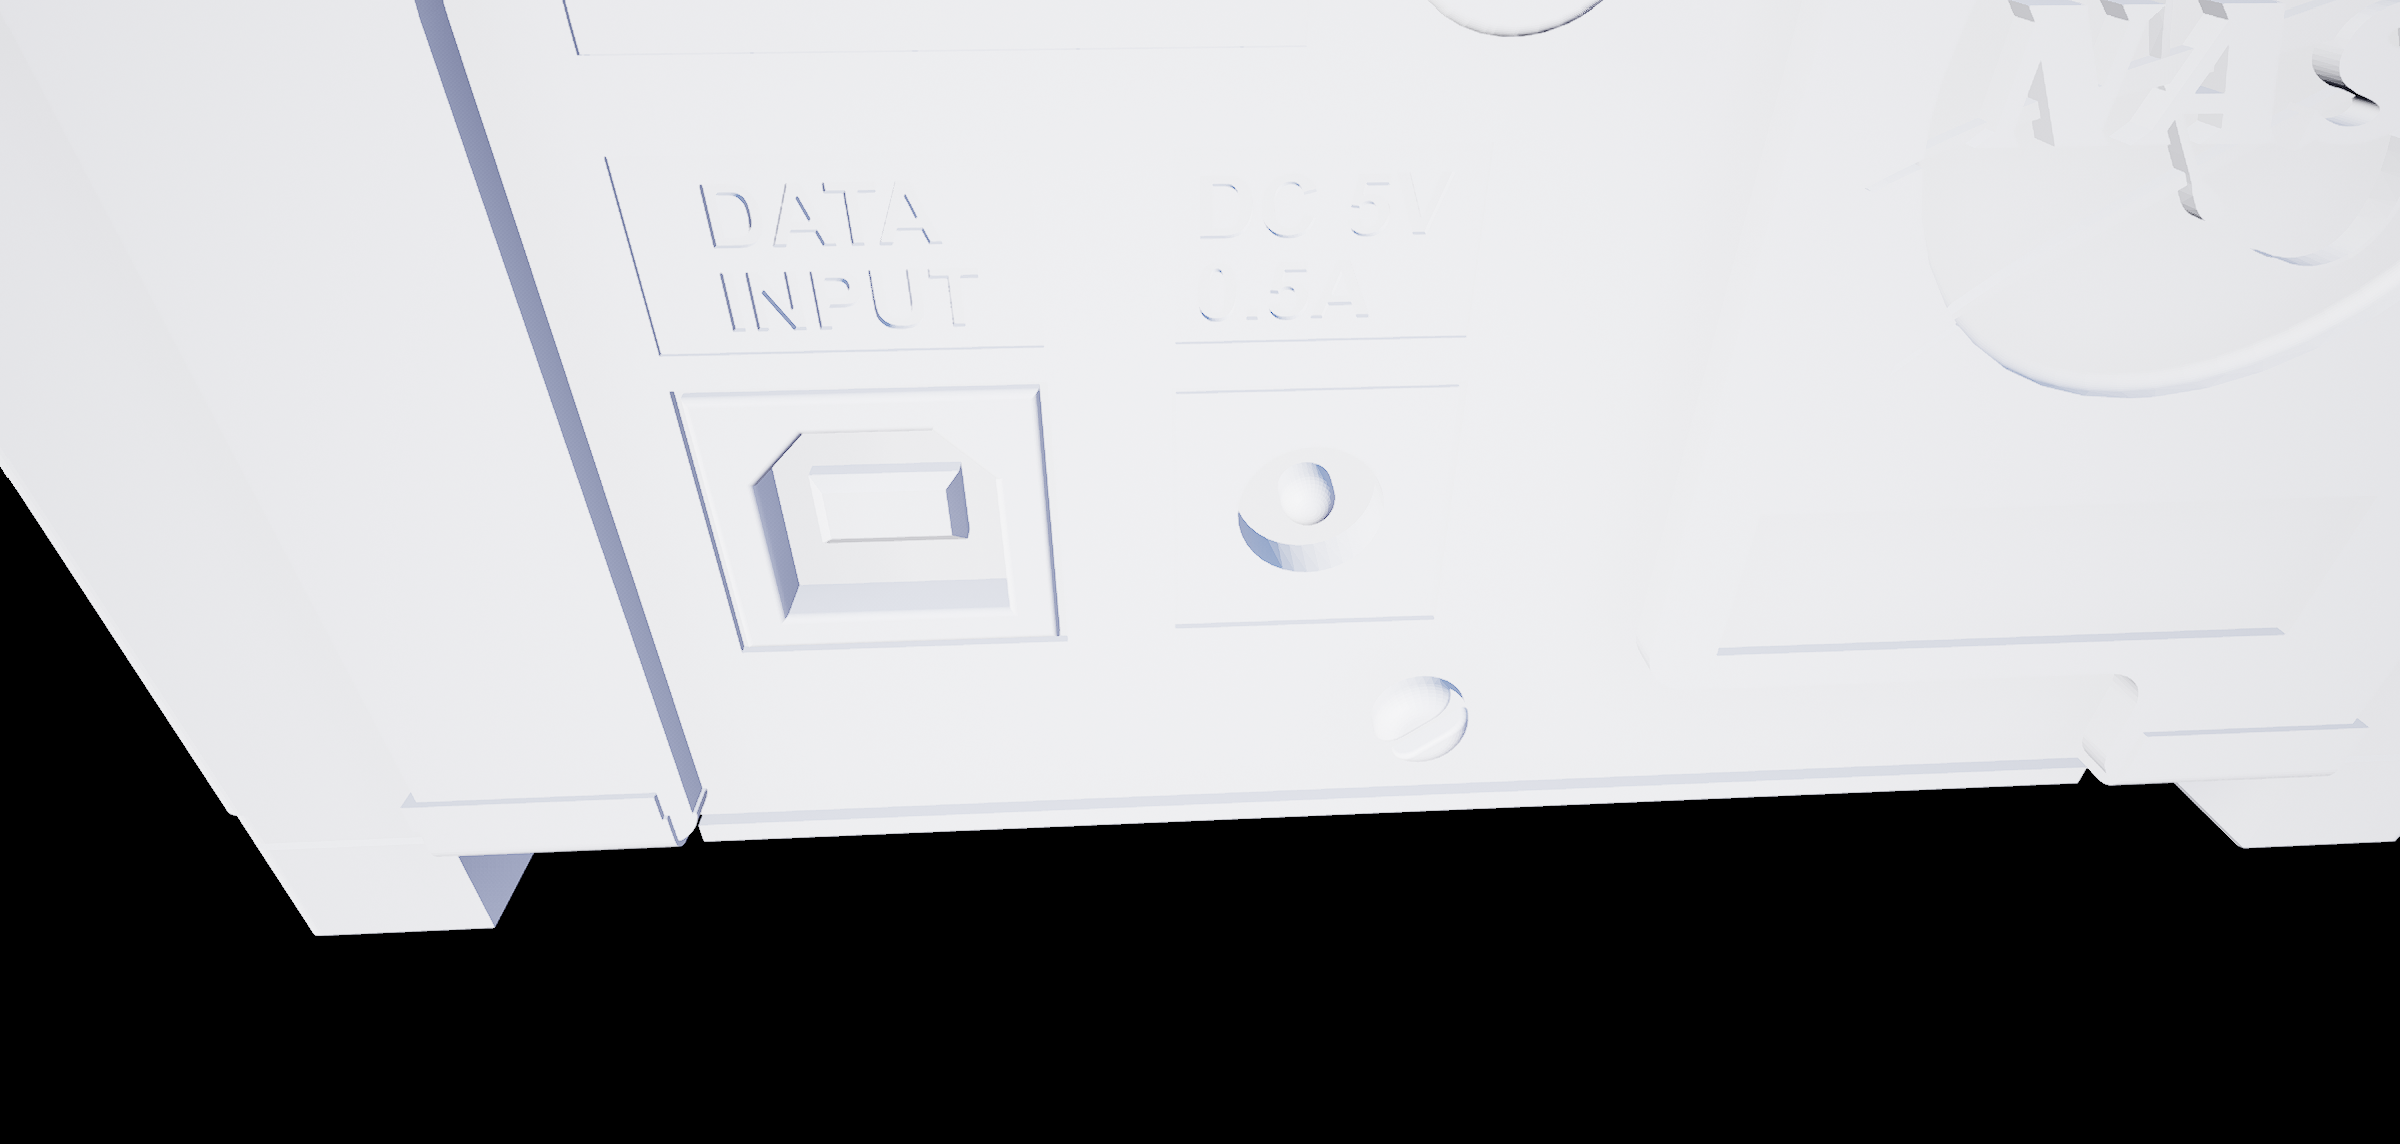dc: (1226, 435, 1402, 605)
usb: (735, 417, 1035, 632)
